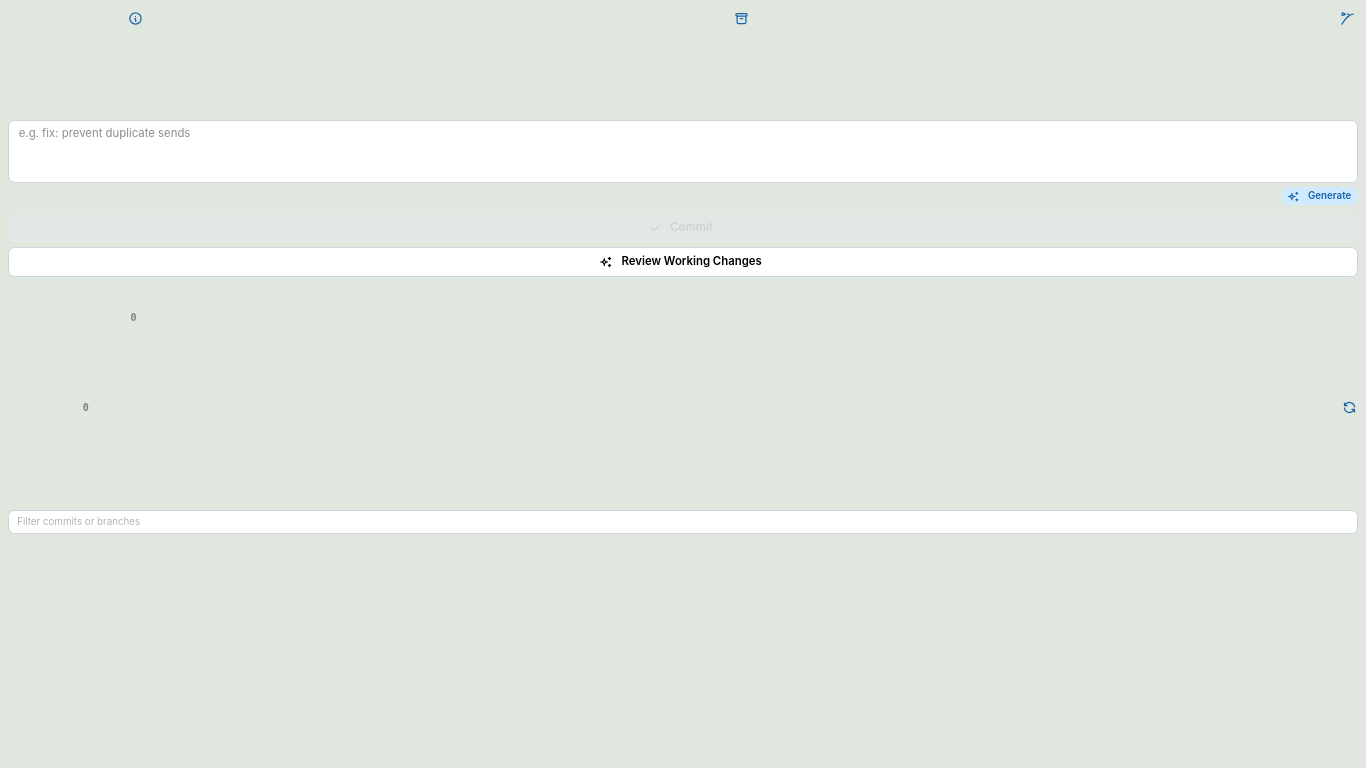
Scenario: SourceControlPanel staging › inserts a generated commit message for the user to edit
The image size is (1366, 768).
Step 1. Click the button with test id "sc-generate" → [1320, 196], box 1282,187 -> 1358,205
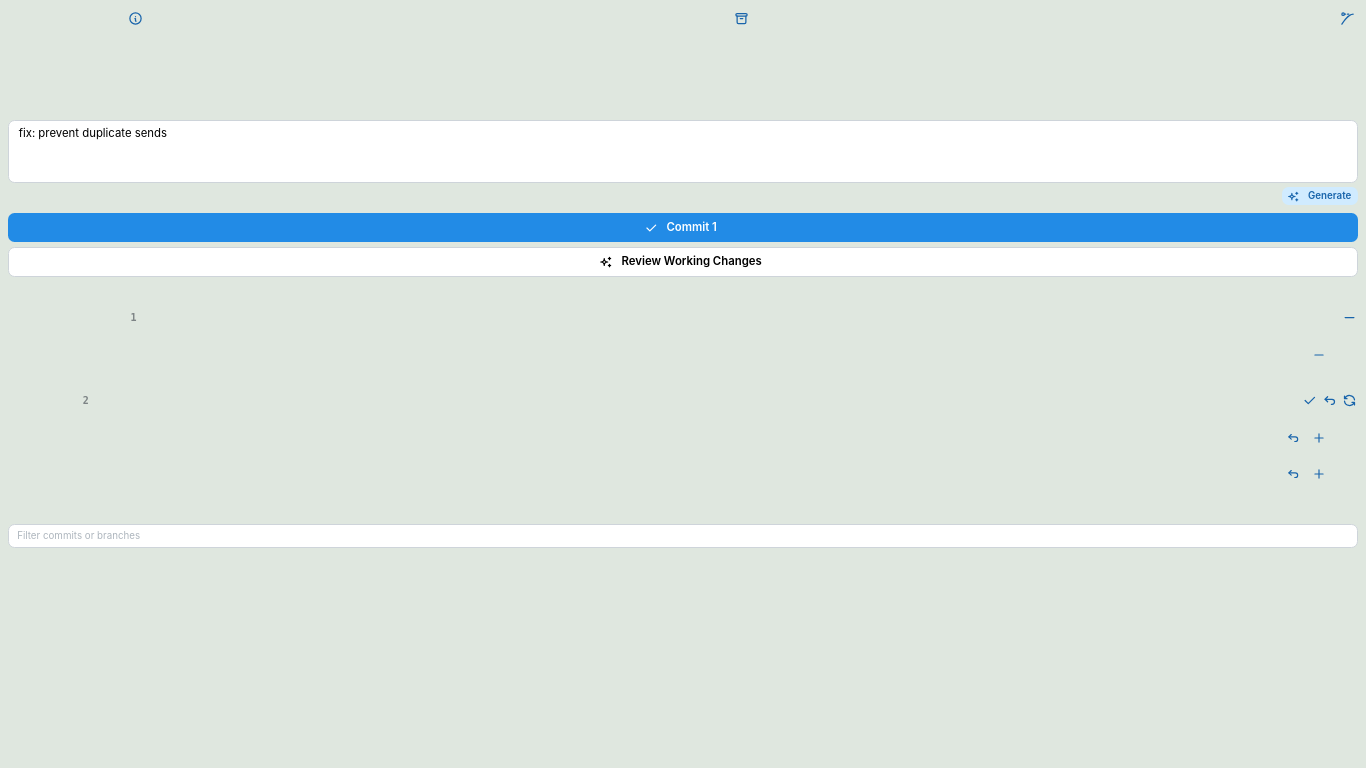
Expected: the text box with test id "sc-commit-message" holds "fix: prevent duplicate sends", 8,120 -> 1358,183
